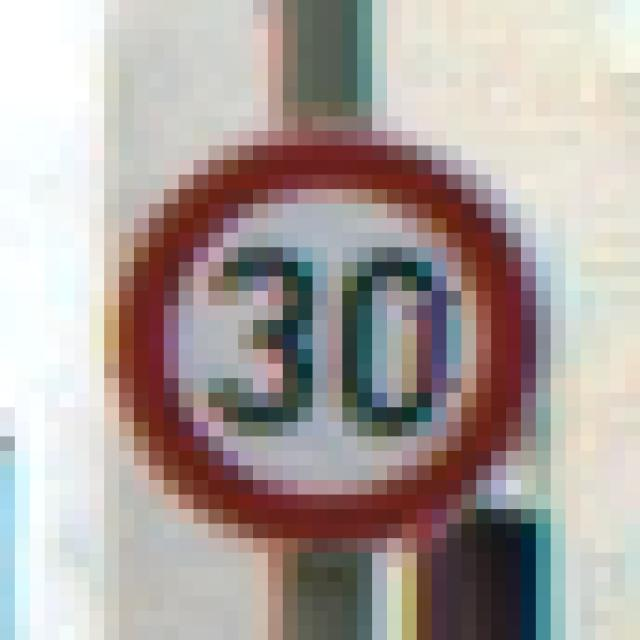Speed Limit -30-: (67, 66, 543, 546)
